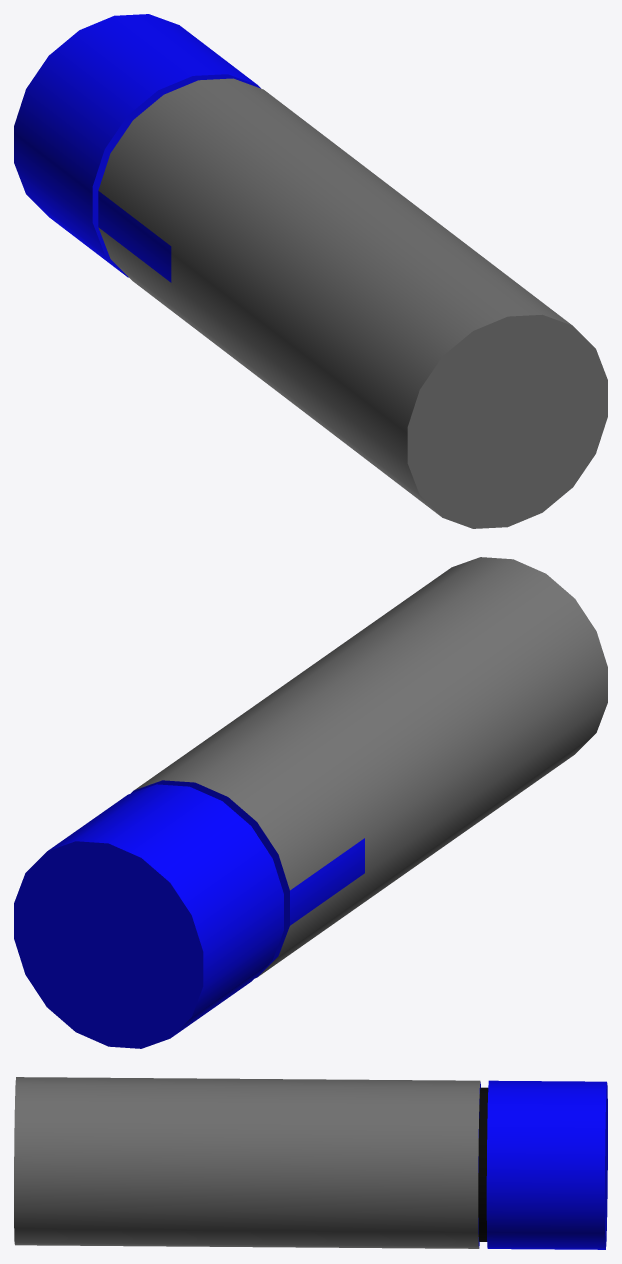
The model's file is Anethesia Cart - Can Blue.FBX.
3 renders of one model, top to bottom at view 1: azimuth 30°, elevation 25°; view 2: azimuth 150°, elevation 25°; view 3: azimuth 270°, elevation 25°, orthographic. The views are drawn at different scales.
Visible parts, largest first — view 1: Can; view 2: Can; view 3: Can.
Part boxes in pixels (box(x1,y1,x2,y2)): Can: box(14, 14, 607, 528); Can: box(14, 557, 607, 1048); Can: box(14, 1077, 607, 1249).
Bounding box in the file's own units: 5.24 × 5 × 17.59.
